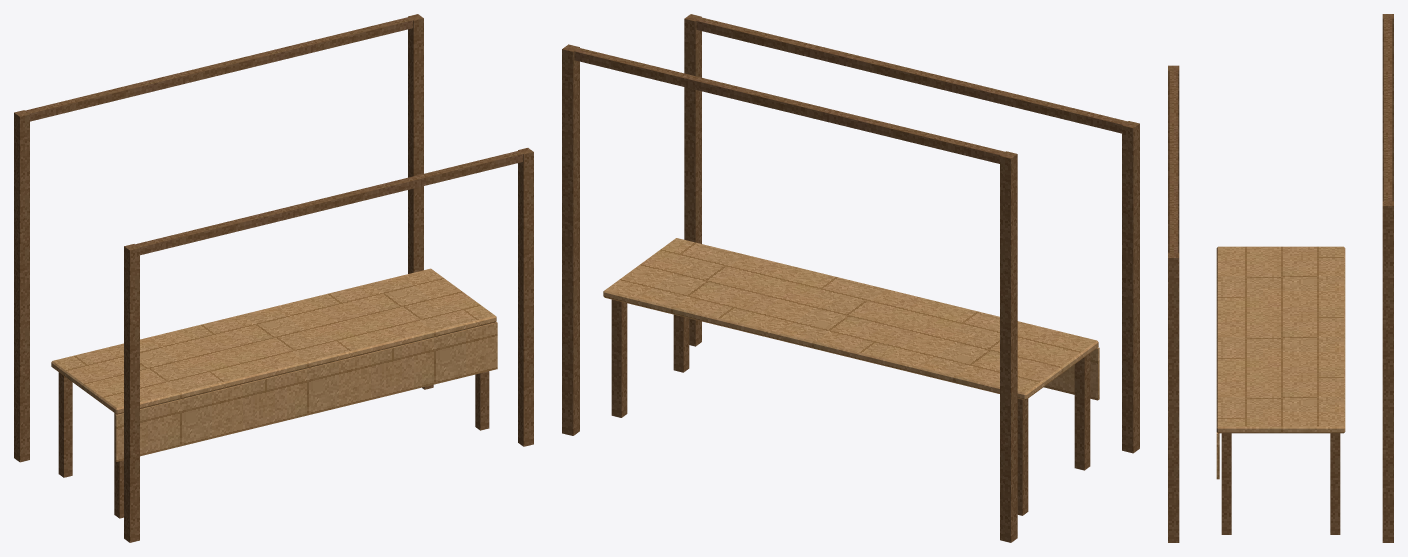
3 renders of one model, left to right at view 1: azimuth 30°, elevation 25°; view 2: azimuth 150°, elevation 25°; view 3: azimuth 270°, elevation 25°, orthographic. The views are drawn at different scales.
Visible parts, largest first — view 1: Decor_market_stall_free; view 2: Decor_market_stall_free; view 3: Decor_market_stall_free.
Part boxes in pixels (<box>): Decor_market_stall_free: <box>14,14,533,542</box>; Decor_market_stall_free: <box>562,14,1139,542</box>; Decor_market_stall_free: <box>1168,14,1393,542</box>.
Size of the model in its own units: 3.18 by 2.6 by 1.58.
Materials: 2 (2 with a texture image).
